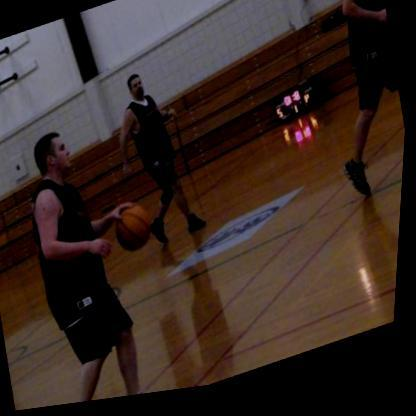basketball: (114, 204, 159, 258)
